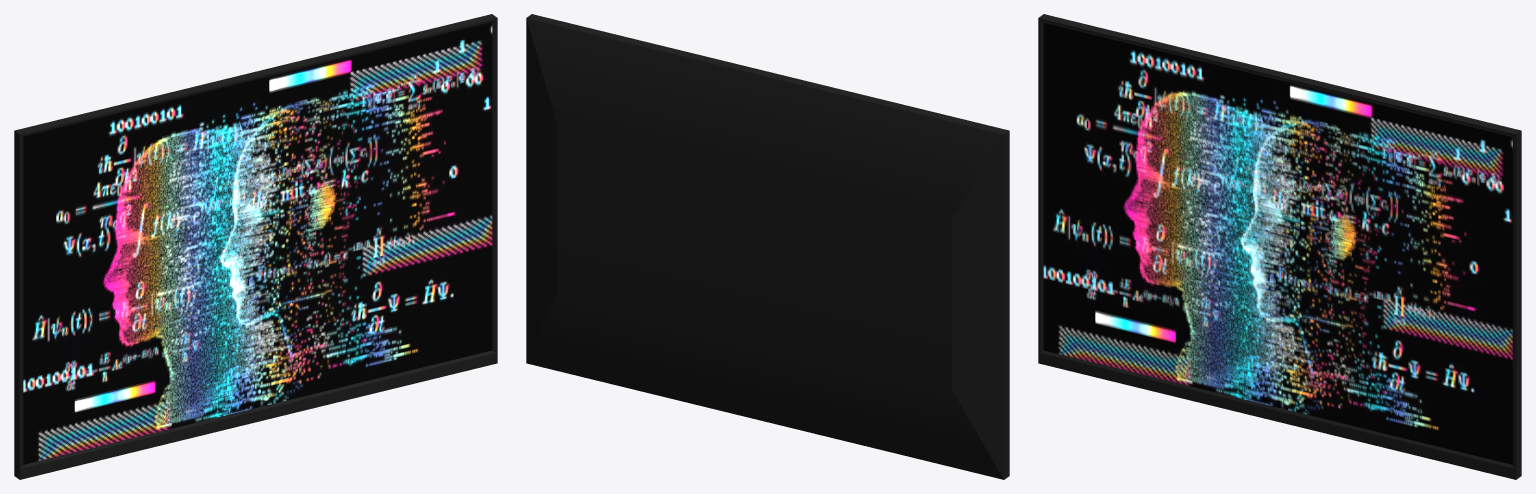
The model's file is DisplayScreenA.fbx.
3 views of the same model, side by side, from view 1: azimuth 30°, elevation 25°; view 2: azimuth 150°, elevation 25°; view 3: azimuth 330°, elevation 25° (orthographic).
Visible parts, largest first — view 1: DisplayScreenA; view 2: DisplayScreenA; view 3: DisplayScreenA.
Boxes of the visible parts, x1,y1,x2,y2 form: DisplayScreenA: (14, 14, 497, 479); DisplayScreenA: (526, 14, 1009, 479); DisplayScreenA: (1038, 14, 1521, 479).
Bounding box in the file's own units: 164 × 113 × 9.64.
